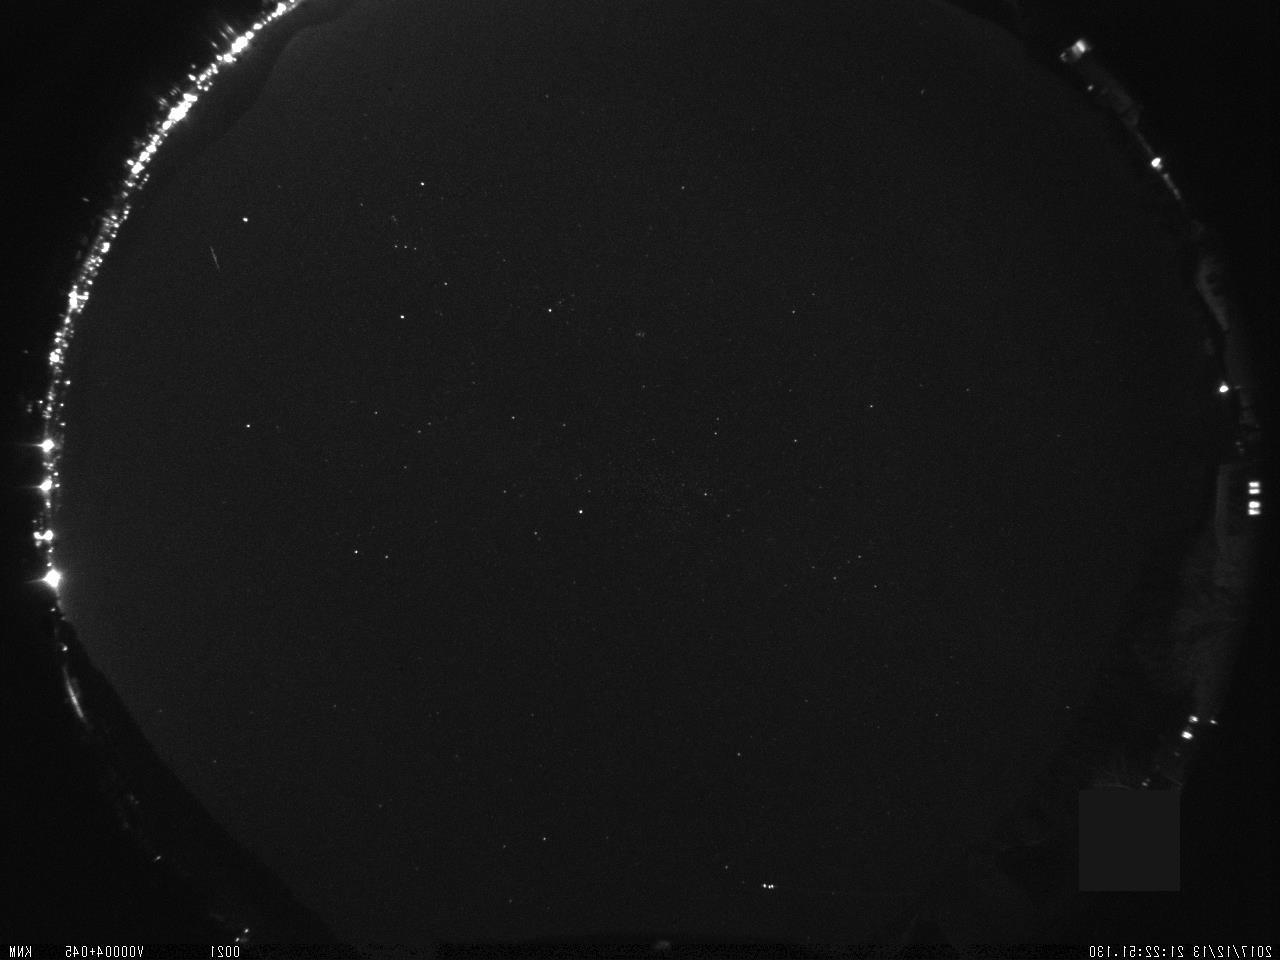meteor: (202, 233, 226, 281)
